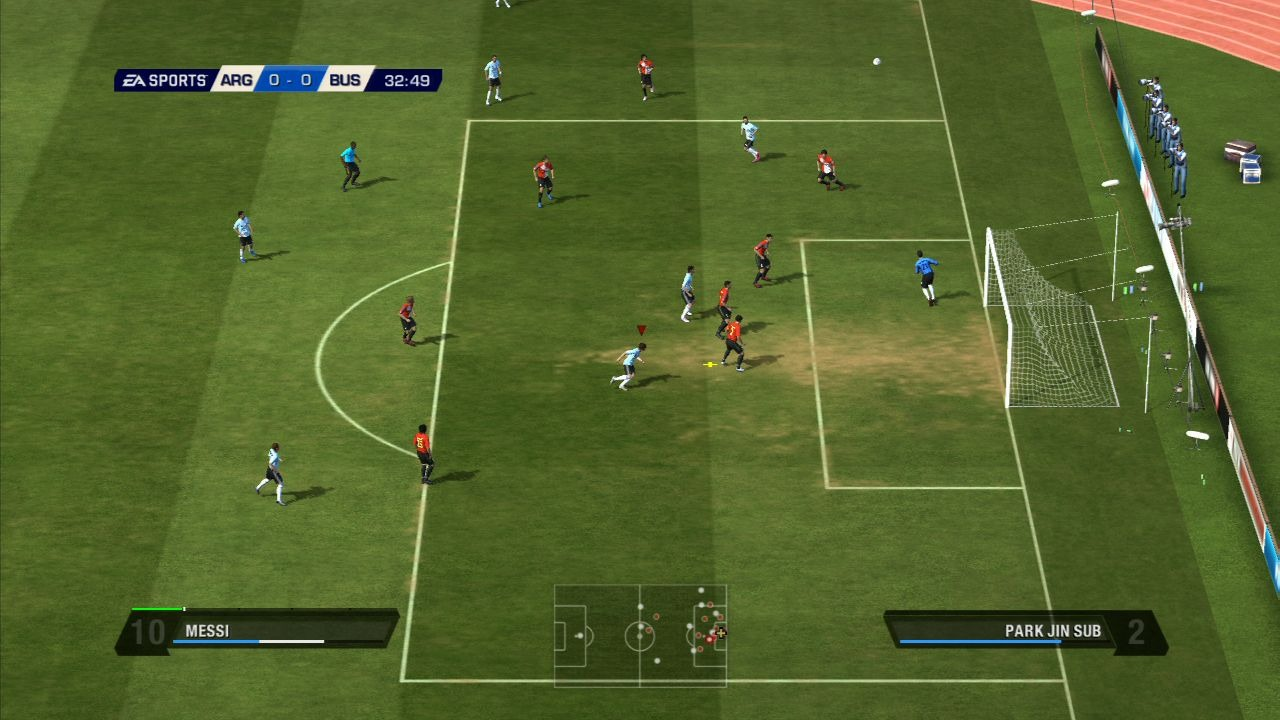ball: (870, 53, 883, 72)
goal: (983, 211, 1152, 411)
player: (413, 419, 442, 486), (258, 440, 286, 504), (230, 207, 263, 261), (615, 341, 646, 397), (725, 314, 754, 372), (811, 145, 846, 193), (486, 55, 513, 109), (914, 250, 940, 304), (535, 156, 565, 202), (400, 292, 425, 347), (755, 232, 778, 289), (678, 263, 701, 320), (637, 51, 663, 101), (740, 114, 764, 160), (716, 281, 735, 339)
